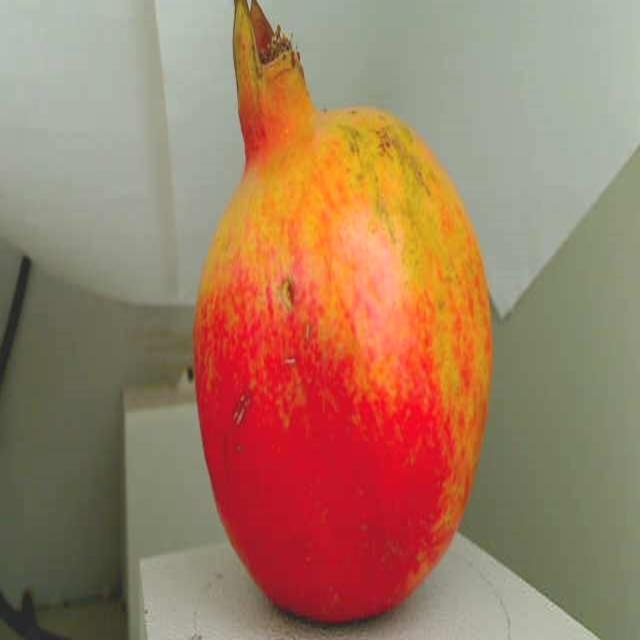pomegranate: (182, 0, 512, 640)
